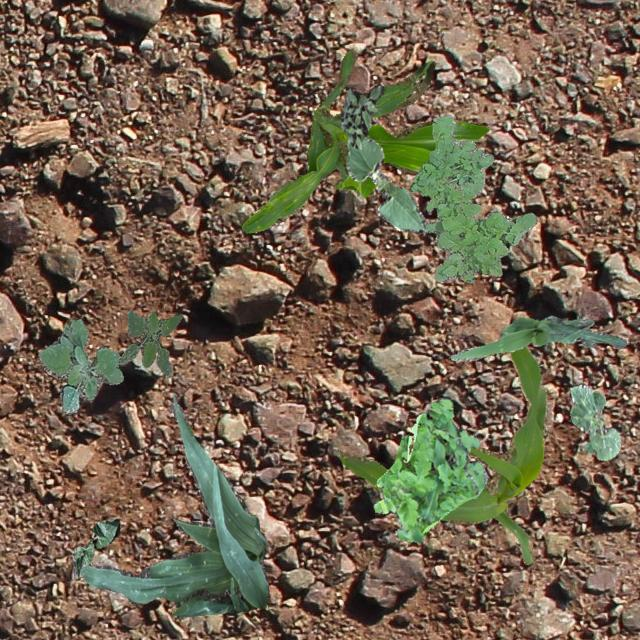crop: (338, 344, 546, 564), (240, 48, 488, 232), (80, 392, 268, 616), (450, 314, 626, 360), (344, 136, 424, 232), (570, 384, 620, 459), (73, 518, 119, 578)
weed: (408, 115, 536, 282), (374, 396, 486, 540), (36, 318, 122, 412), (118, 310, 180, 376), (338, 82, 384, 148)
